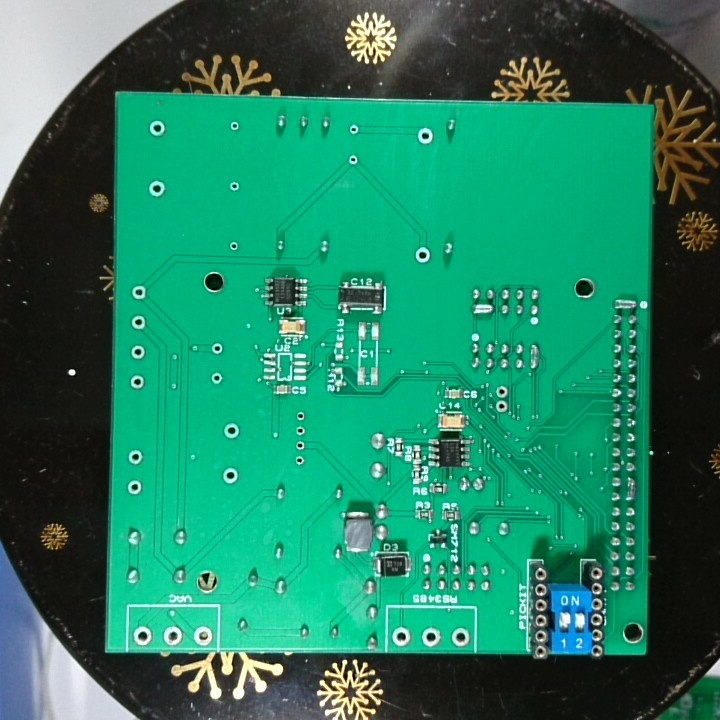F: (131, 622, 154, 649), (161, 623, 185, 648), (191, 623, 214, 648), (390, 624, 412, 649), (146, 177, 168, 201), (449, 626, 471, 649), (419, 626, 441, 649), (220, 420, 242, 443), (220, 464, 241, 488), (125, 446, 146, 469), (415, 124, 435, 147), (413, 243, 433, 266), (128, 282, 149, 303), (127, 372, 148, 392), (128, 342, 148, 363), (128, 312, 148, 333), (147, 117, 167, 138), (125, 478, 143, 499), (208, 339, 227, 358), (493, 397, 510, 416), (493, 383, 511, 400), (208, 369, 224, 388), (227, 178, 242, 195), (345, 152, 360, 169), (292, 438, 309, 453), (292, 452, 307, 469), (346, 122, 361, 138), (293, 423, 308, 438), (227, 118, 241, 134), (294, 408, 308, 423), (227, 238, 240, 252)
P: (611, 295, 639, 312), (468, 300, 495, 317), (622, 474, 637, 504), (528, 342, 542, 372)
